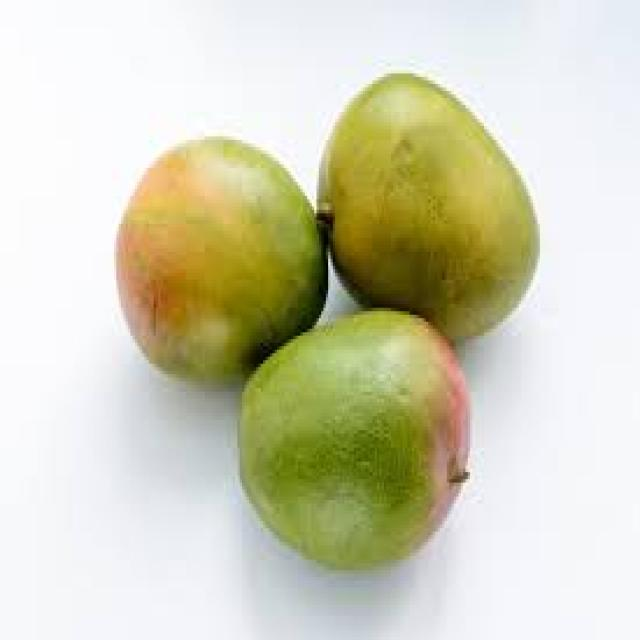mango: (240, 308, 475, 570), (316, 74, 544, 338), (117, 130, 334, 387)
